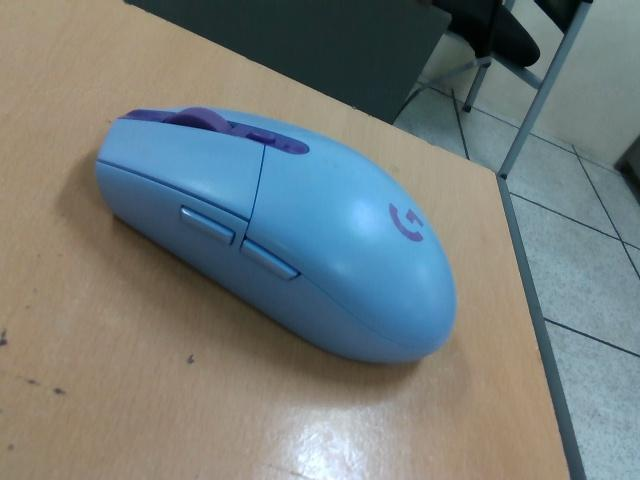mouse: (94, 107, 458, 366)
